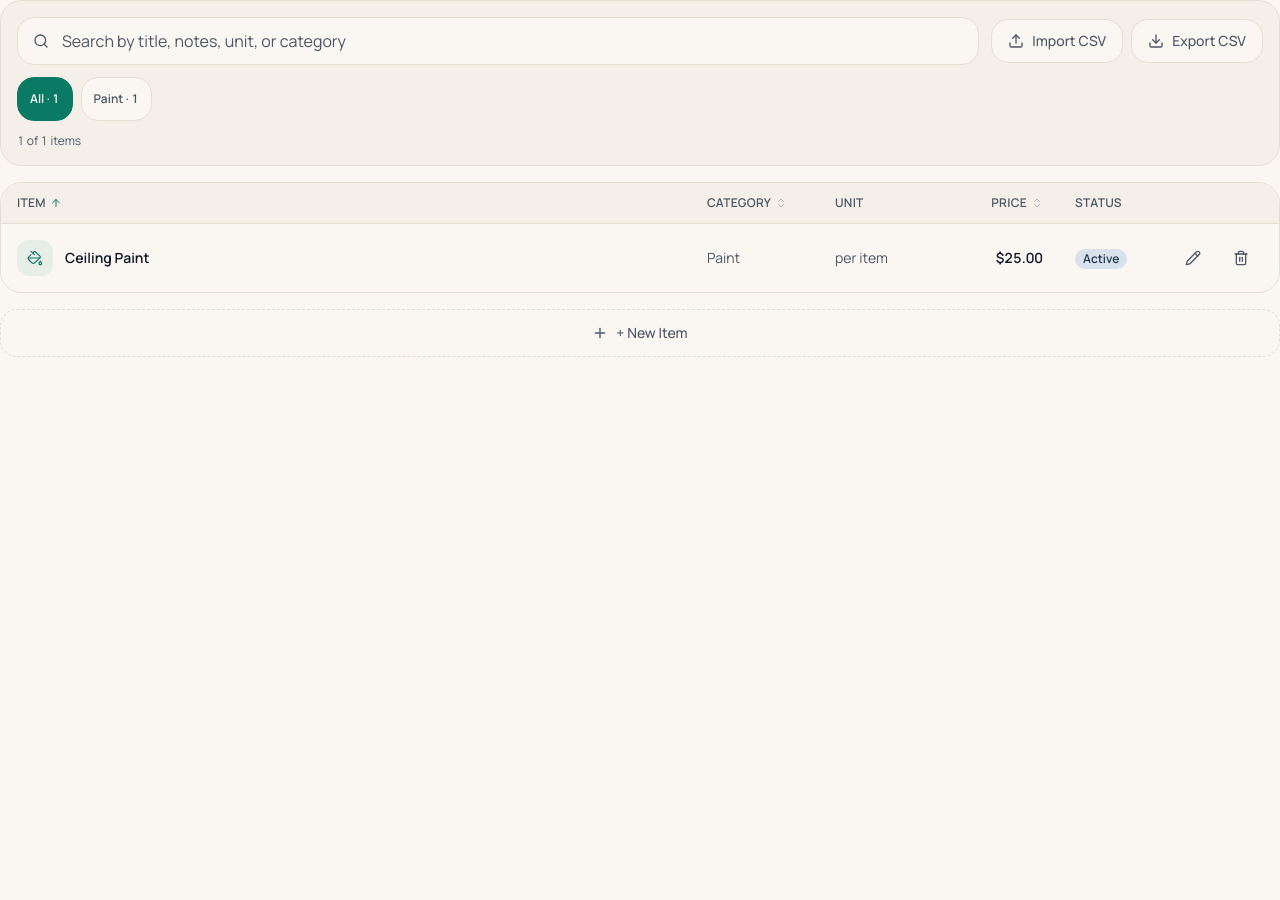
Test case: MaterialItemList › keeps an item when destructive deletion is cancelled
The width and height of the screenshot is (1280, 900).
Click the button named "Delete Ceiling Paint" at {"x": 1241, "y": 258}, box [1219,236,1263,280]
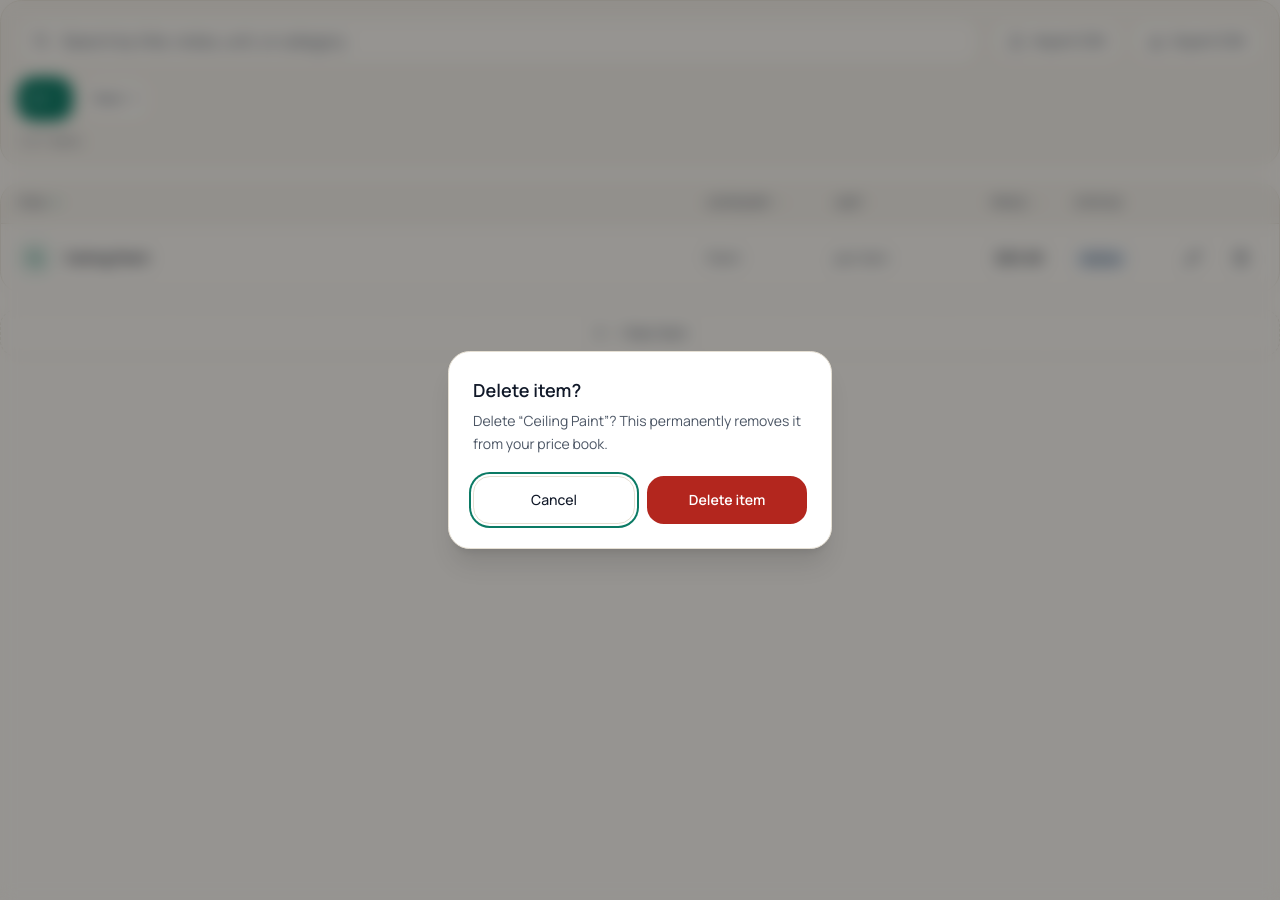
expect the dialog "Delete item?" is shown: met, box [448,351,832,549]
Click the button "Cancel" at {"x": 554, "y": 500}, box [473,476,635,524]
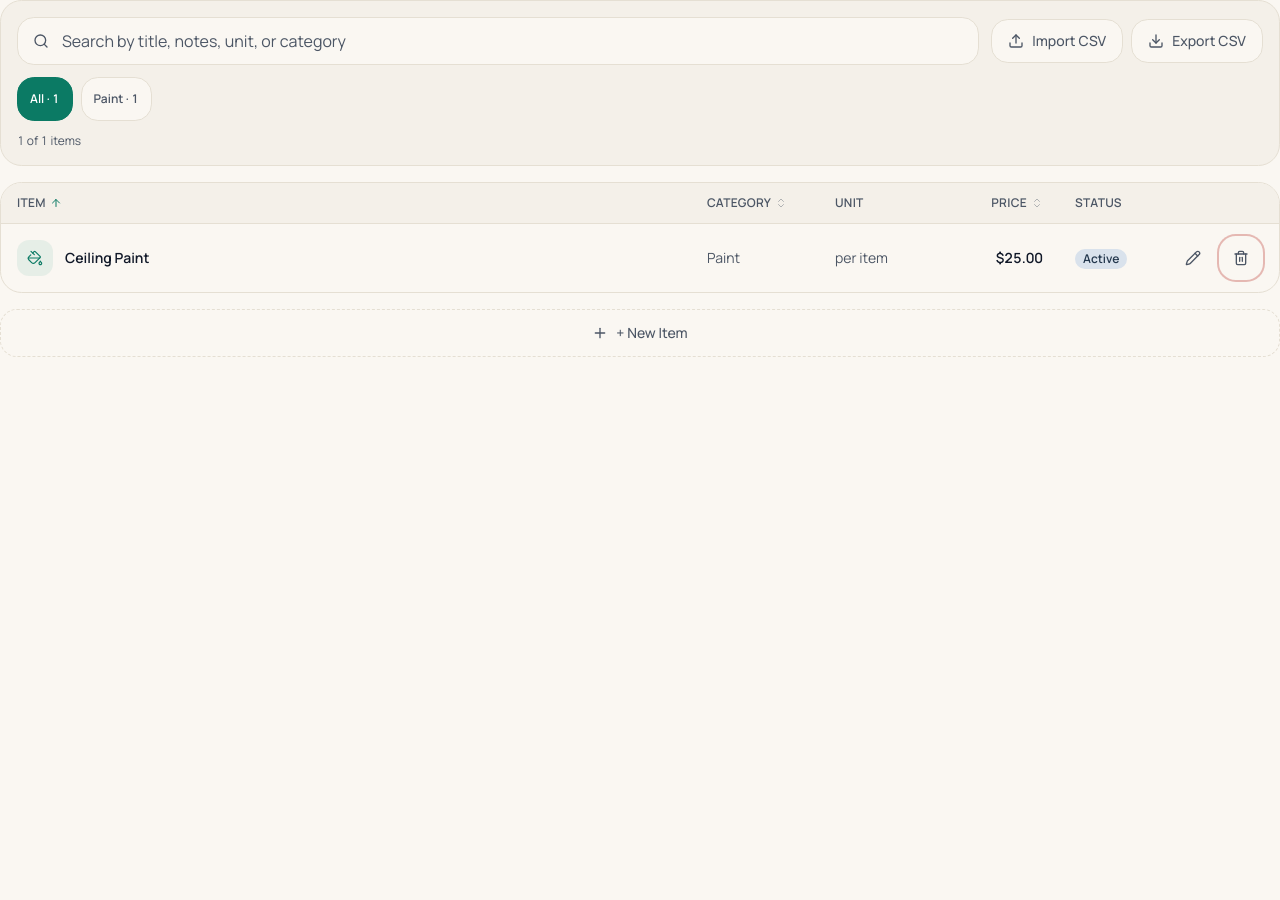
expect the text "Ceiling Paint" is shown: met, box [65,248,149,268]
expect the heading "Delete item?" is gone: met
